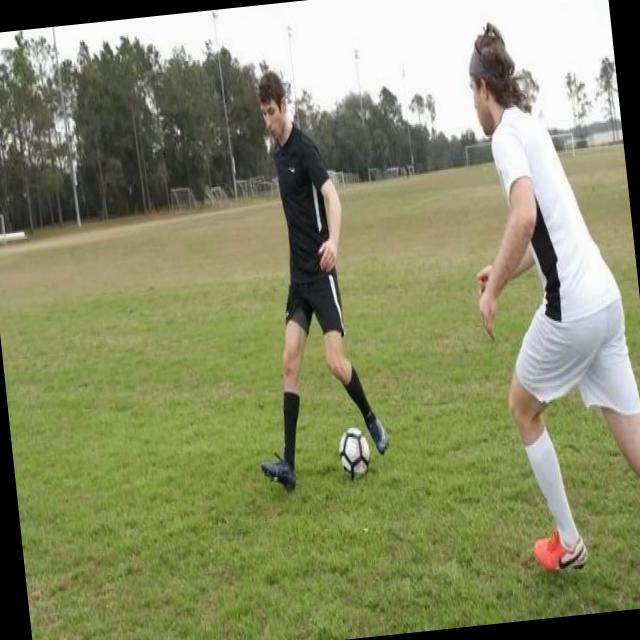Soccer Ball: (335, 424, 372, 482)
